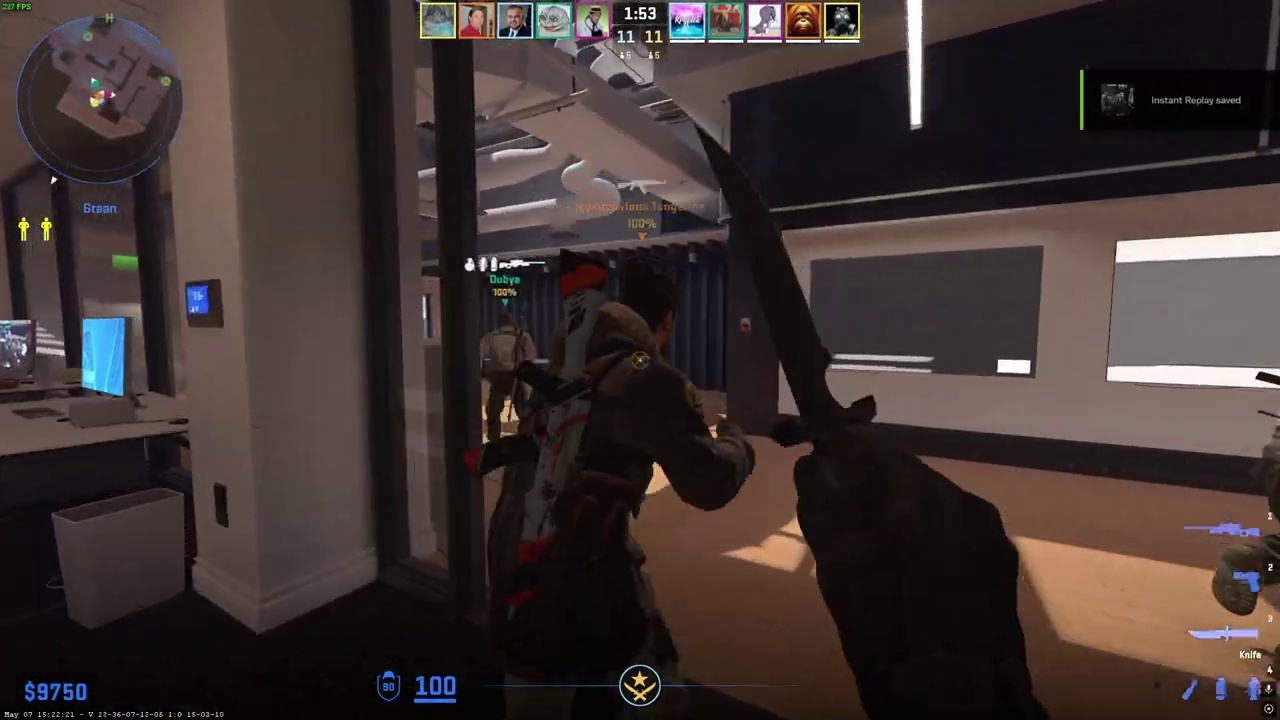Terrorist: (502, 255, 717, 720), (480, 311, 537, 441)
